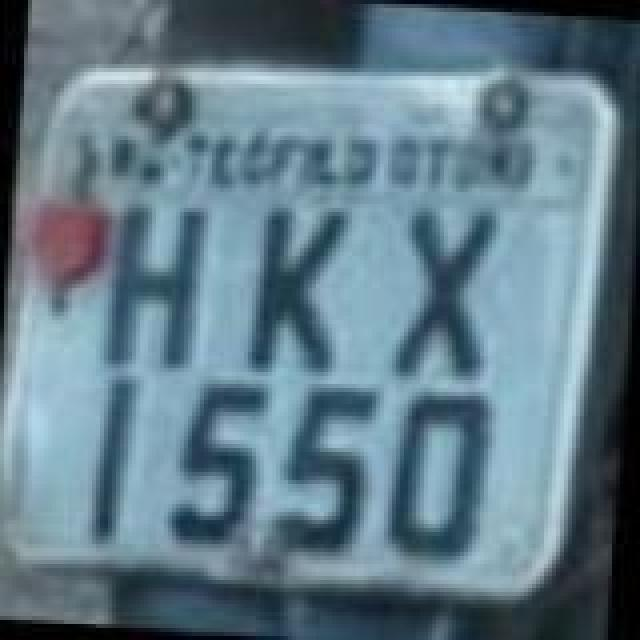1: (88, 374, 144, 546)
5: (168, 378, 272, 546), (280, 390, 384, 554)
H: (106, 200, 210, 380)
K: (248, 202, 356, 382)
O: (390, 388, 498, 560)
X: (394, 204, 506, 392)
